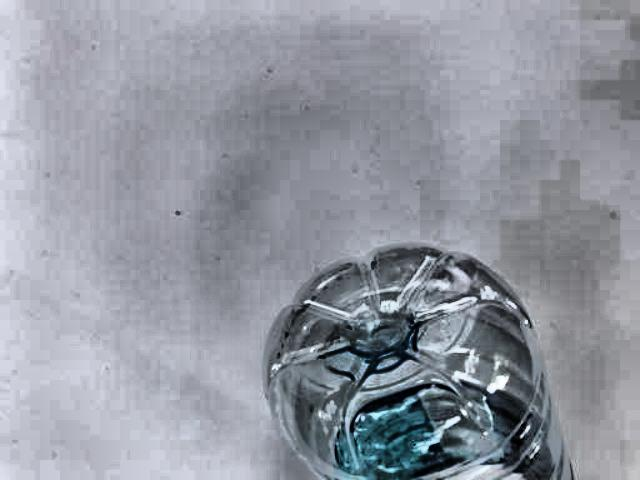Bottles: (248, 230, 604, 480)
